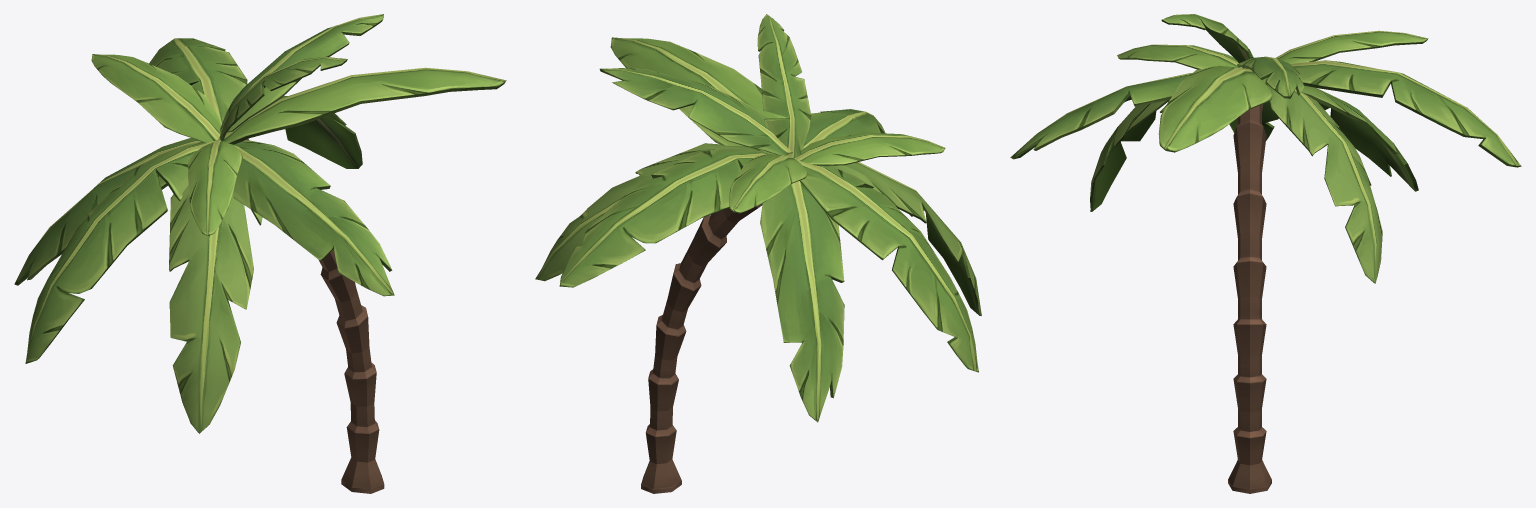
The model's file is yazasu3.FBX.
3 views of the same model, side by side, from view 1: azimuth 30°, elevation 25°; view 2: azimuth 150°, elevation 25°; view 3: azimuth 270°, elevation 25° (orthographic). The views are drawn at different scales.
Parts seen in each view (by area): view 1: Plane095; view 2: Plane095; view 3: Plane095.
Boxes of the visible parts, <box> form: Plane095: <box>14,14,506,493</box>; Plane095: <box>535,14,981,493</box>; Plane095: <box>1010,14,1521,493</box>.
Size of the model in its own units: 136 by 143 by 151.
